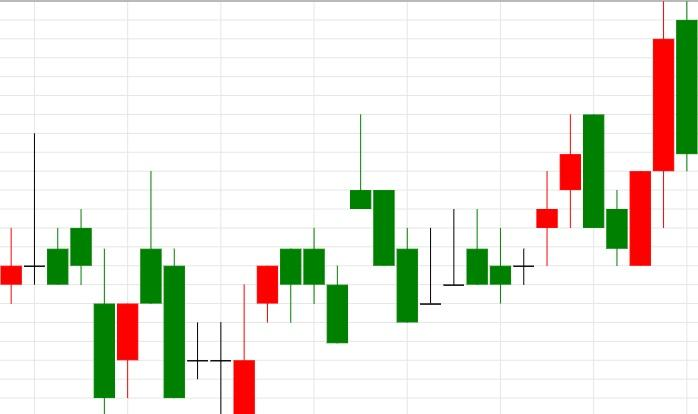bearish_engulfing_fall: (490, 114, 604, 304)
